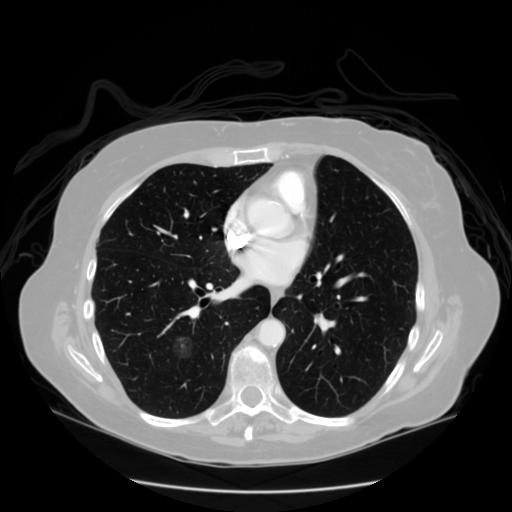nodule: (170, 333, 197, 360)
